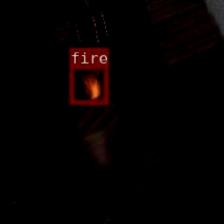fire: (69, 64, 107, 104)
